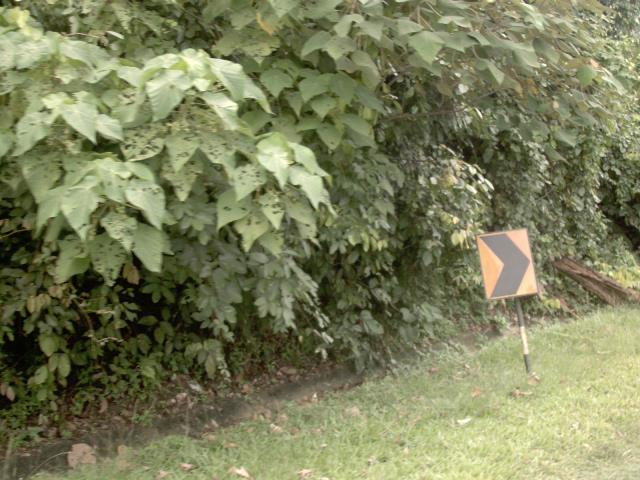traffic_sign: (465, 216, 549, 311)
